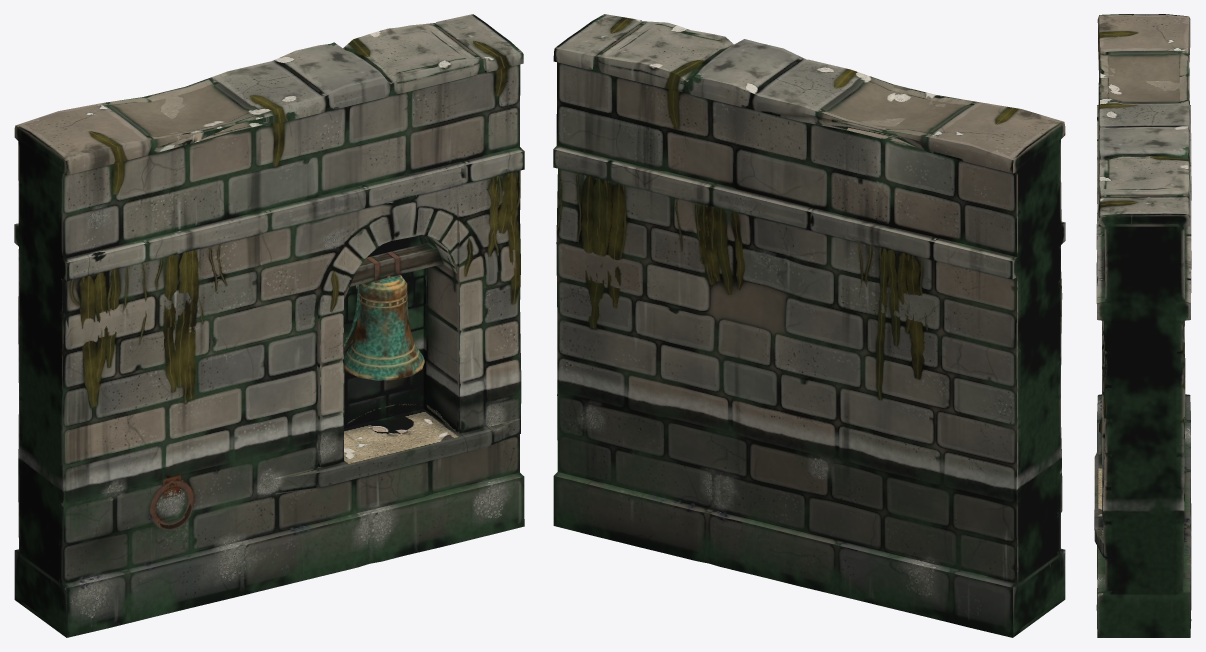
File: drowned_wall_b.glb
The picture shows the model from 3 angles, left to right: view 1: azimuth 30°, elevation 25°; view 2: azimuth 150°, elevation 25°; view 3: azimuth 270°, elevation 25°; orthographic projection. The views are drawn at different scales.
Visible parts, largest first — view 1: drowned_wall_b; view 2: drowned_wall_b; view 3: drowned_wall_b.
Boxes of the visible parts, x1,y1,x2,y2 form: drowned_wall_b: (14,14,524,637); drowned_wall_b: (553,14,1065,637); drowned_wall_b: (1094,14,1191,637).
Bounding box in the file's own units: 4 × 4.03 × 0.8266.
Materials: 1 (1 with a texture image).
